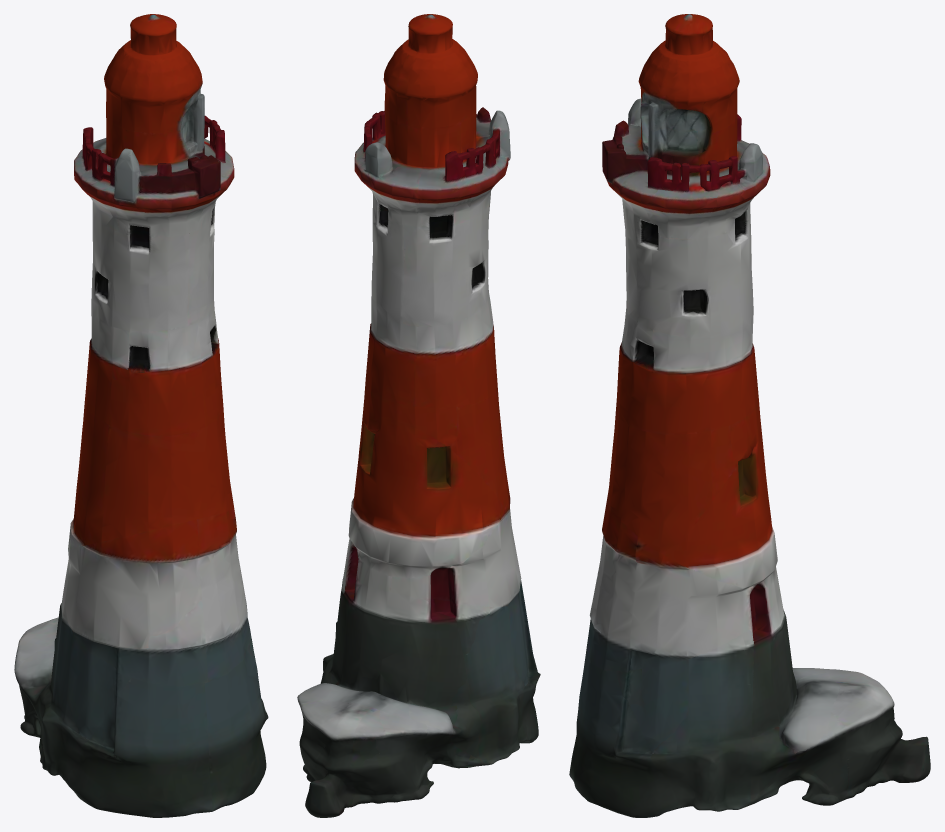
Rendered from uk-lighthouse.glb.
3 renders of one model, left to right at view 1: azimuth 30°, elevation 25°; view 2: azimuth 150°, elevation 25°; view 3: azimuth 270°, elevation 25°, orthographic. The views are drawn at different scales.
Parts seen in each view (by area): view 1: tripo_node_03abf321-4657-49b0-bc87-2d84dcb1bfec; view 2: tripo_node_03abf321-4657-49b0-bc87-2d84dcb1bfec; view 3: tripo_node_03abf321-4657-49b0-bc87-2d84dcb1bfec.
Boxes of the visible parts, left/top/right/bottom form: tripo_node_03abf321-4657-49b0-bc87-2d84dcb1bfec: left=14, top=14, right=268, bottom=817; tripo_node_03abf321-4657-49b0-bc87-2d84dcb1bfec: left=297, top=14, right=540, bottom=817; tripo_node_03abf321-4657-49b0-bc87-2d84dcb1bfec: left=569, top=14, right=930, bottom=817.
Size of the model in its own units: 0.2793 by 0.9997 by 0.4284.
Materials: 1 (1 with a texture image).
